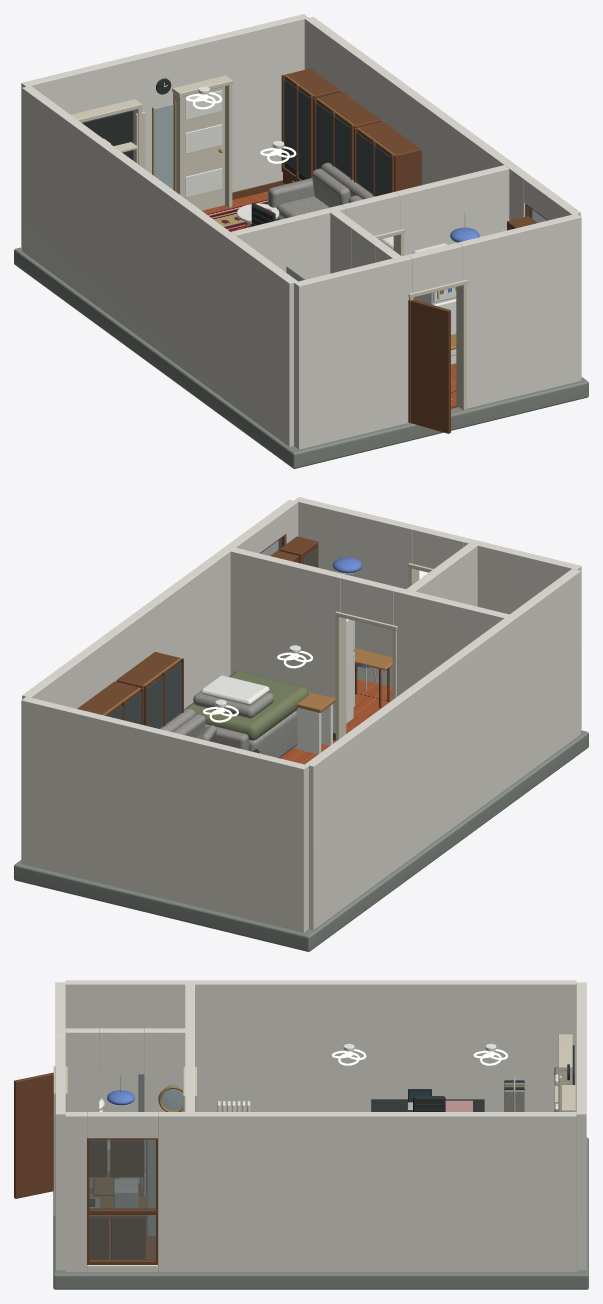
File: kvartira.glb
3 renders of one model, top to bottom at view 1: azimuth 30°, elevation 25°; view 2: azimuth 150°, elevation 25°; view 3: azimuth 270°, elevation 25°, orthographic. The views are drawn at different scales.
Visible parts, largest first — view 1: West_wall_pier, South_wall_pier.001, South_wall_pier, North_wall_pier, East_wall_pier.001, Foundation_slab, Living_partition_pier.001, Entrance_door_open, Living_partition_pier, Rear_paneled_opening_leaf, Walnut_display_0_case, Smoky_glass_cabinet.002 (+27 smaller); view 2: North_wall_pier, West_wall_pier, East_wall_pier.001, Living_partition_pier.001, Foundation_slab, South_wall_pier.001, Living_partition_pier, South_wall_pier, Stacked_bed_mattress, Living_partition_lintel, Smoky_glass_cabinet, South_wall_lintel (+15 smaller); view 3: East_wall_pier.001, West_wall_pier, Foundation_slab, Glazed_entry_glass, Entrance_door_open, East_wall_pier, North_wall_pier, Bathroom_partition_pier, Bathroom_partition_pier.001, South_wall_pier.001, Bathroom_partition_lintel, East_wall_lintel (+18 smaller).
Boxes of the visible parts, bbox=[...] form: West_wall_pier: bbox=[22, 85, 297, 446]; South_wall_pier.001: bbox=[458, 213, 581, 408]; South_wall_pier: bbox=[294, 255, 412, 449]; North_wall_pier: bbox=[21, 14, 308, 246]; East_wall_pier.001: bbox=[304, 16, 532, 220]; Foundation_slab: bbox=[14, 247, 588, 468]; Living_partition_pier.001: bbox=[395, 165, 509, 255]; Entrance_door_open: bbox=[408, 299, 450, 433]; Living_partition_pier: bbox=[231, 205, 346, 280]; Rear_paneled_opening_leaf: bbox=[183, 86, 224, 210]; Walnut_display_0_case: bbox=[357, 121, 421, 191]; Smoky_glass_cabinet.002: bbox=[283, 79, 309, 178]; North_wall_pier: bbox=[21, 696, 308, 932]; West_wall_pier: bbox=[305, 568, 580, 929]; East_wall_pier.001: bbox=[22, 535, 249, 708]; Living_partition_pier.001: bbox=[230, 548, 344, 732]; Foundation_slab: bbox=[14, 730, 588, 951]; South_wall_pier.001: bbox=[294, 497, 417, 687]; Living_partition_pier: bbox=[394, 587, 509, 696]; South_wall_pier: bbox=[463, 538, 581, 729]; Stacked_bed_mattress: bbox=[184, 671, 308, 740]; Living_partition_lintel: bbox=[340, 574, 398, 625]; Smoky_glass_cabinet: bbox=[147, 662, 182, 728]; South_wall_lintel: bbox=[413, 526, 467, 568]; East_wall_pier.001: bbox=[158, 1112, 576, 1272]; West_wall_pier: bbox=[65, 980, 576, 1111]; Foundation_slab: bbox=[53, 1137, 588, 1289]; Glazed_entry_glass: bbox=[89, 1139, 155, 1260]; Entrance_door_open: bbox=[14, 1072, 53, 1198]; East_wall_pier: bbox=[65, 1112, 86, 1272]; North_wall_pier: bbox=[576, 982, 586, 1270]; Bathroom_partition_pier: bbox=[65, 1028, 99, 1187]; Bathroom_partition_pier.001: bbox=[144, 1028, 185, 1111]; South_wall_pier.001: bbox=[55, 1058, 65, 1270]; Bathroom_partition_lintel: bbox=[99, 1028, 144, 1074]; East_wall_lintel: bbox=[87, 1112, 157, 1138].
Size of the model in its own units: 5.3 by 3.1 by 9.33.
Materials: 22 (3 with a texture image).
